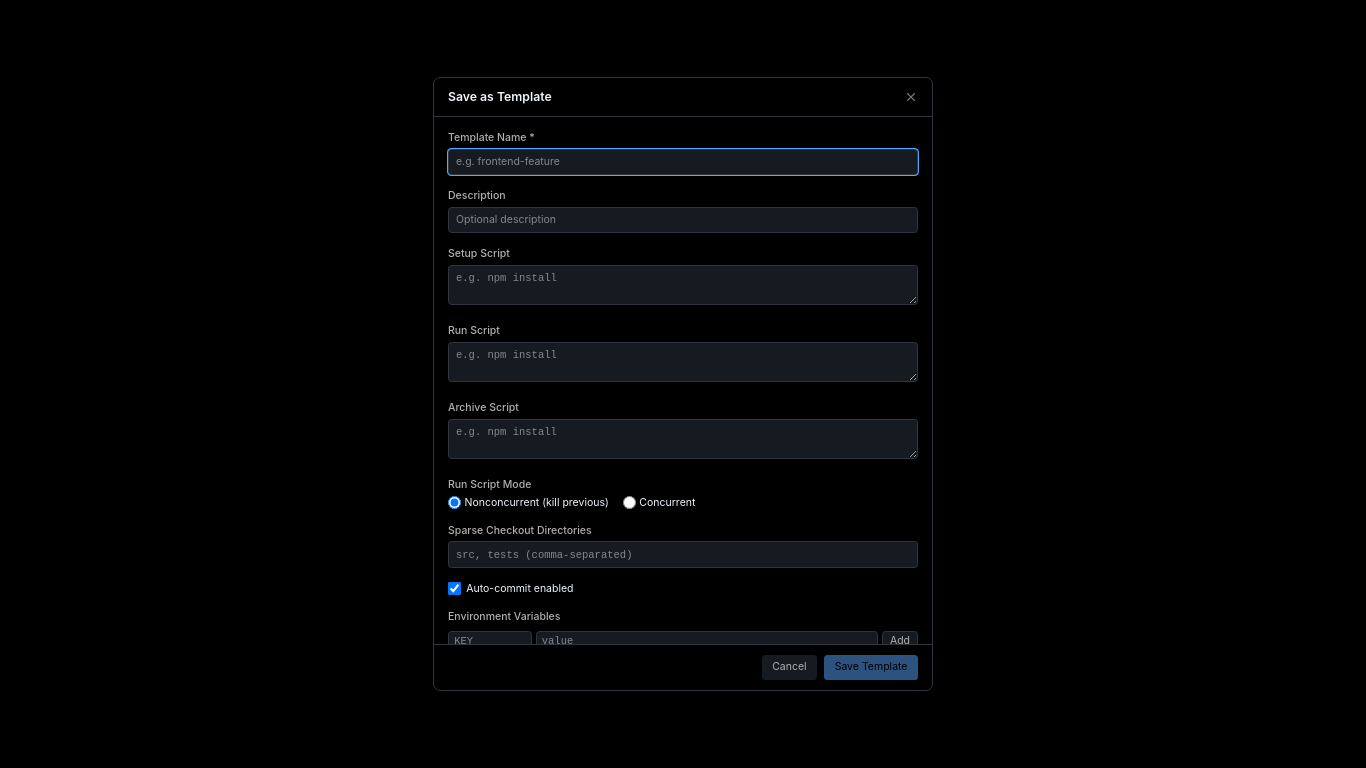
WorkspaceTemplateDialog › shows error when save fails
Type "my-template" into the field with placeholder "e.g. frontend-feature". click: point(683, 162)
box: [448,149,918,175]
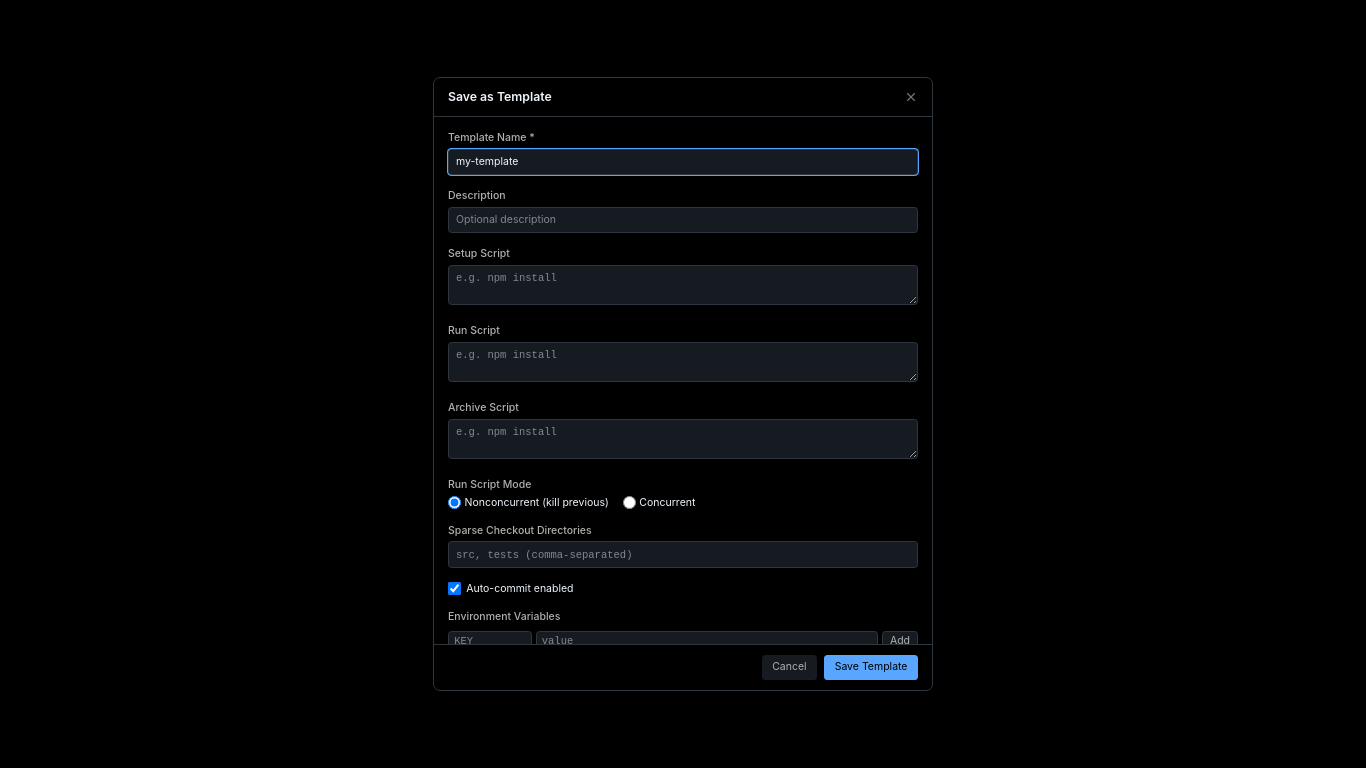
Click the button "Save Template". click: point(871, 667)
box: [824,655,918,680]
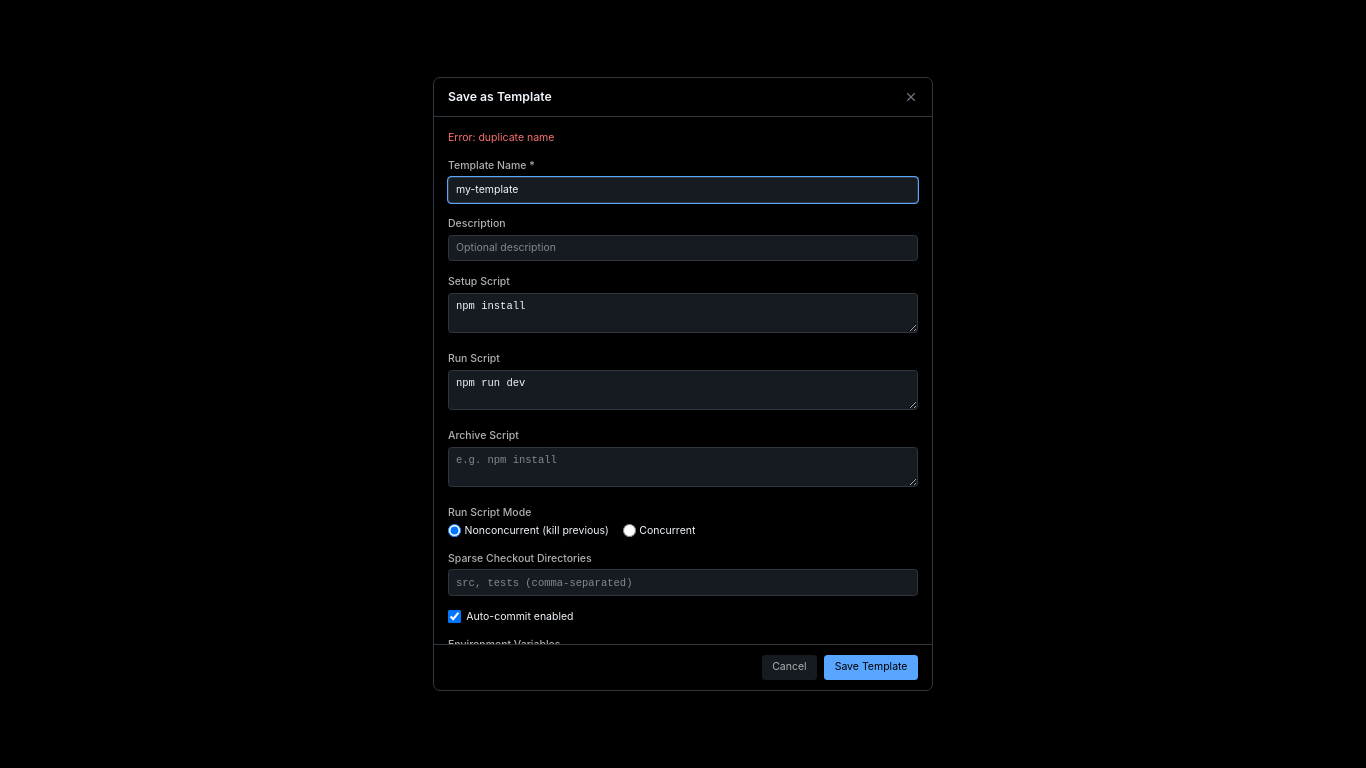
Check: the text "Error: duplicate name" is shown, box [448,131,554,144]
